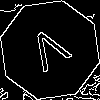V: (25, 25, 78, 81)
